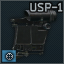NPZ USP-1 4x scope: (0, 0, 64, 64)
